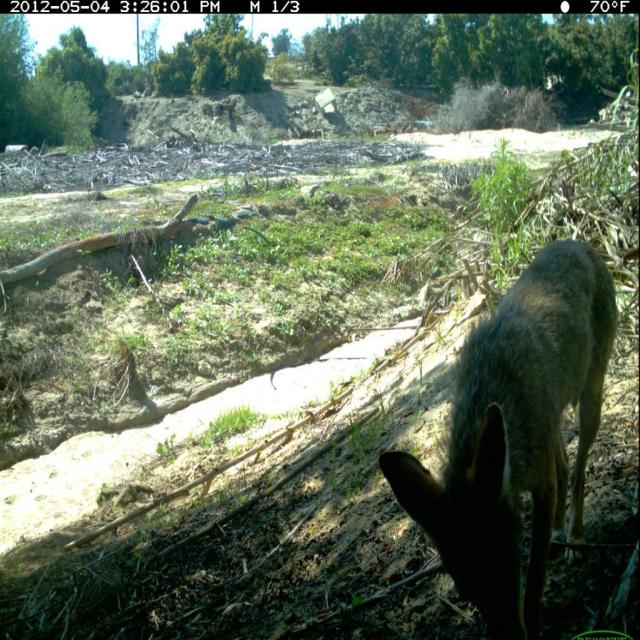coyote: (379, 231, 621, 638)
